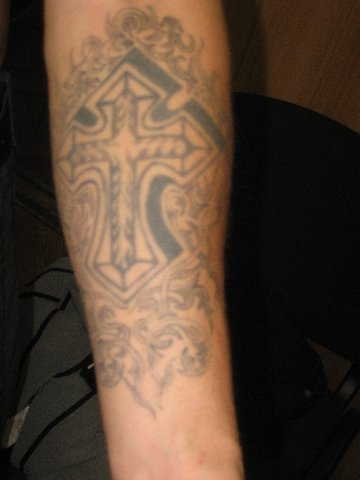tatu9_krest: (69, 92, 196, 264)
